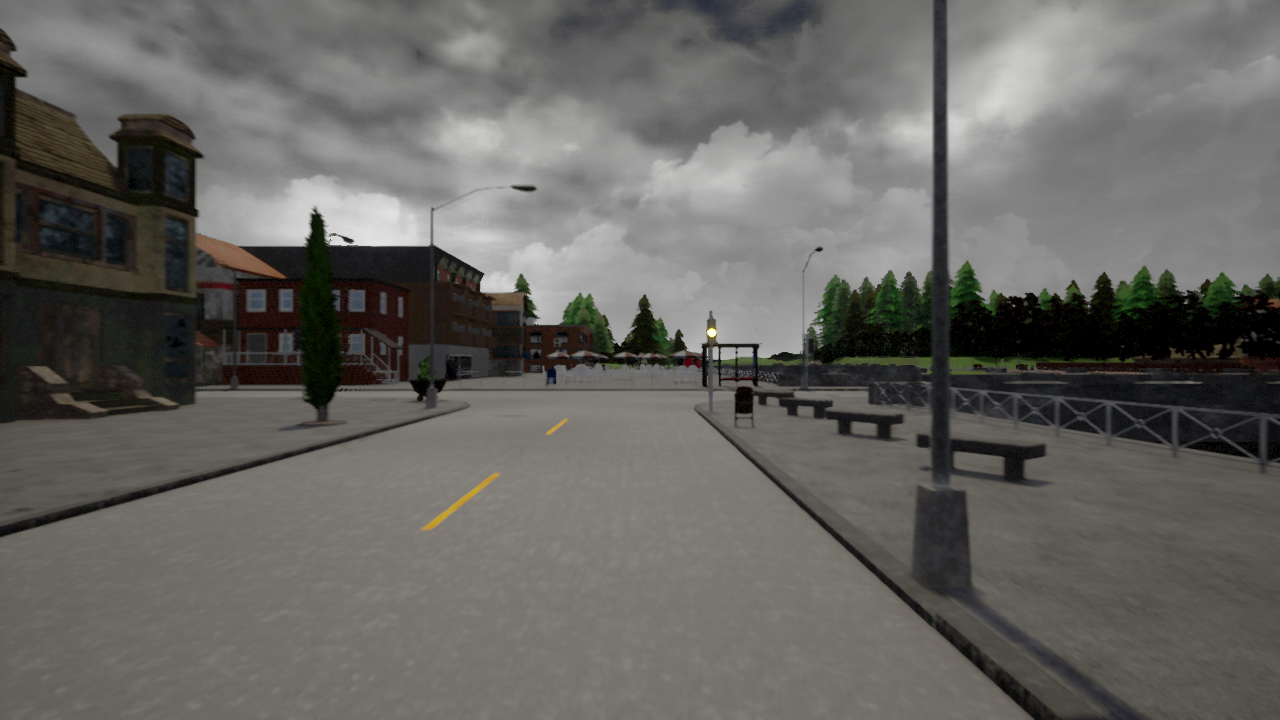yellow: (706, 318, 718, 347)
